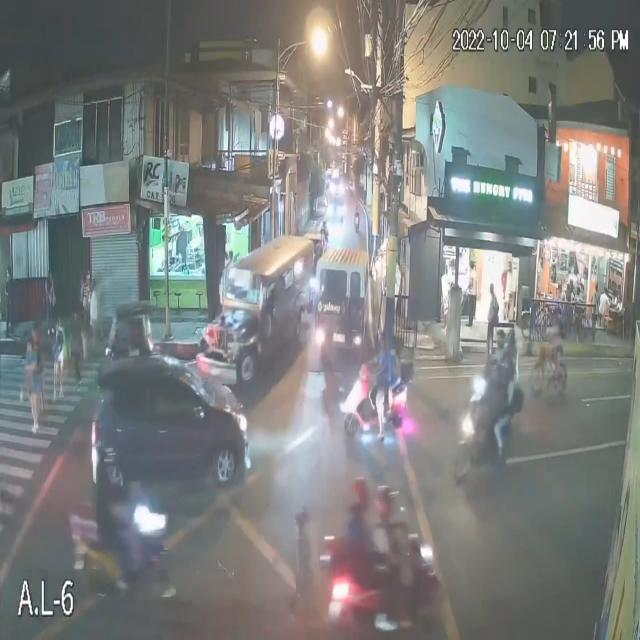Full-Faced: (376, 486, 400, 521), (352, 475, 372, 510), (494, 325, 509, 349)
